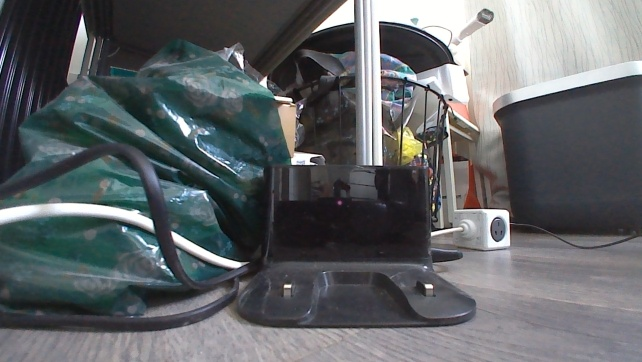charger: (233, 159, 479, 330)
wire: (0, 137, 261, 335), (510, 221, 641, 251), (428, 221, 465, 239)
